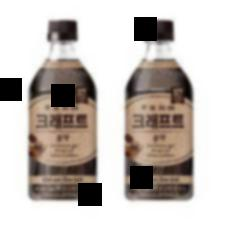georgiacraft_black: (13, 14, 108, 209), (122, 12, 198, 205)
